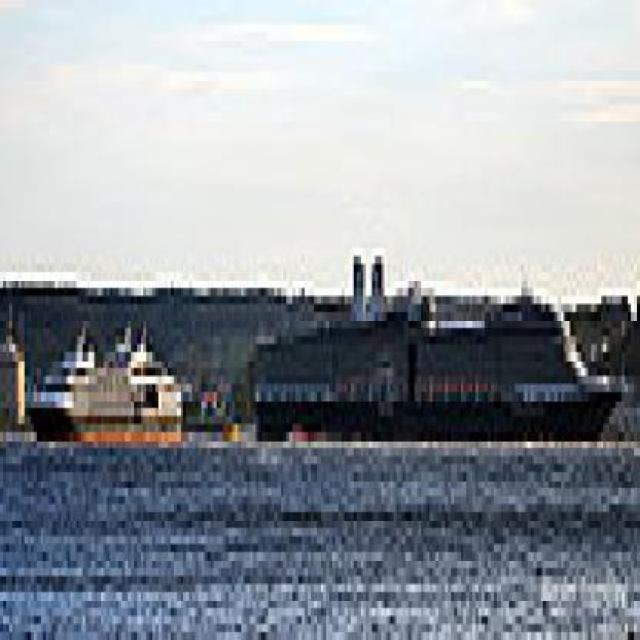cruise: (239, 241, 633, 466), (20, 290, 197, 457)
